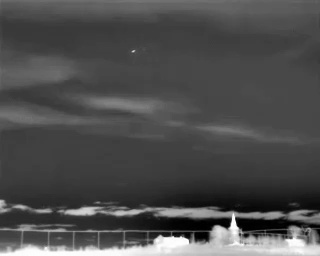AIRPLANE: (130, 47, 137, 55)
